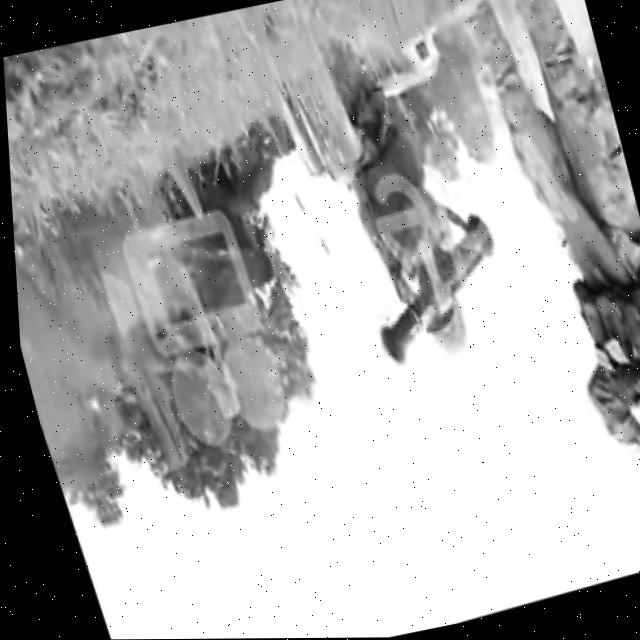rocket: (347, 205, 520, 367)
